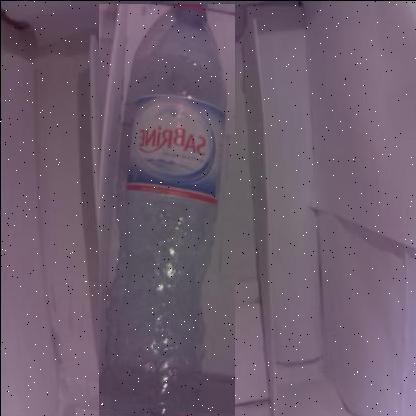Plastic Bottle: (98, 3, 235, 415)
